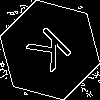K: (25, 25, 81, 81)
